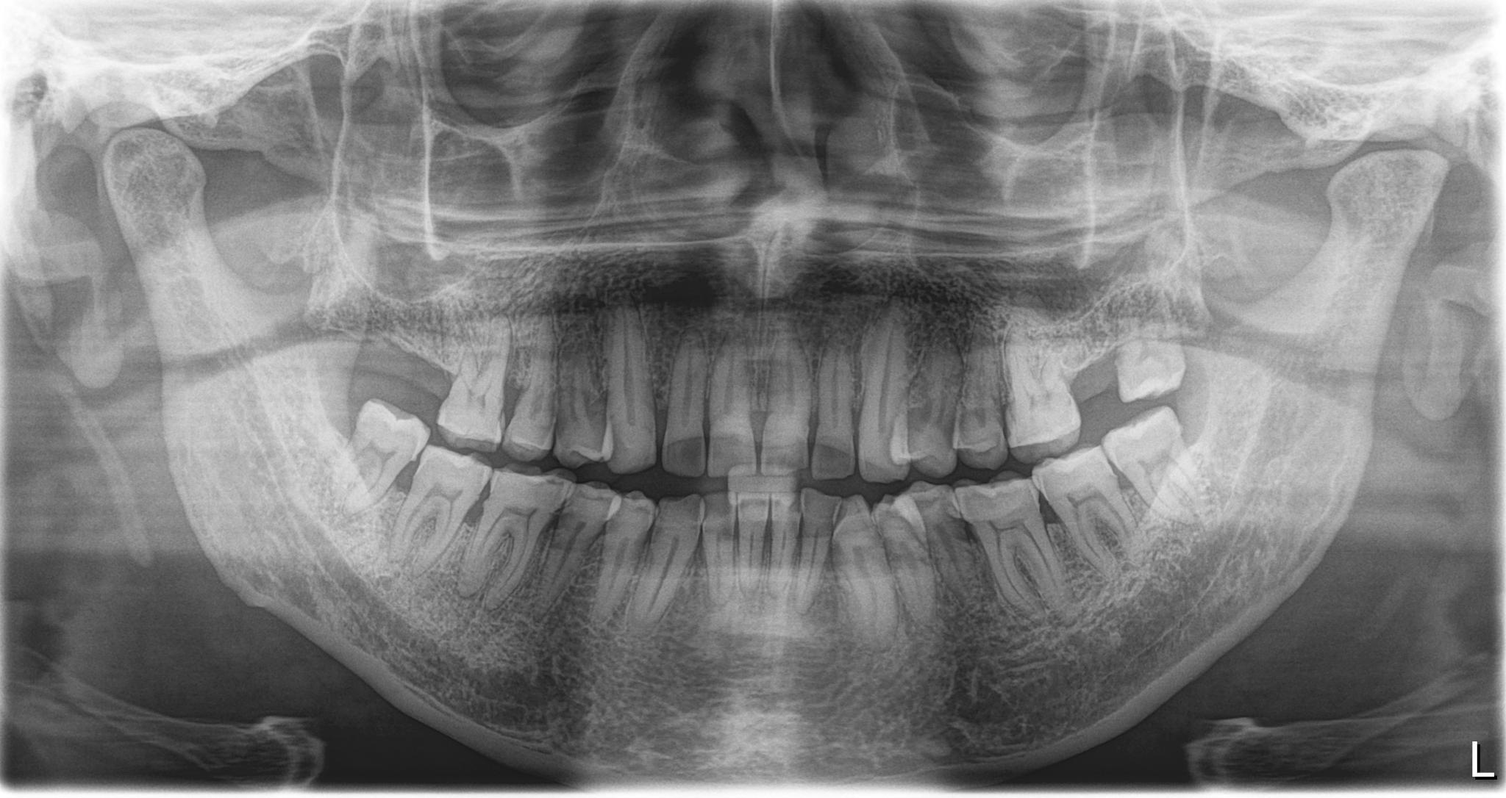Missing Tooth: (393, 318, 451, 416), (1077, 338, 1118, 423), (349, 321, 392, 400)
